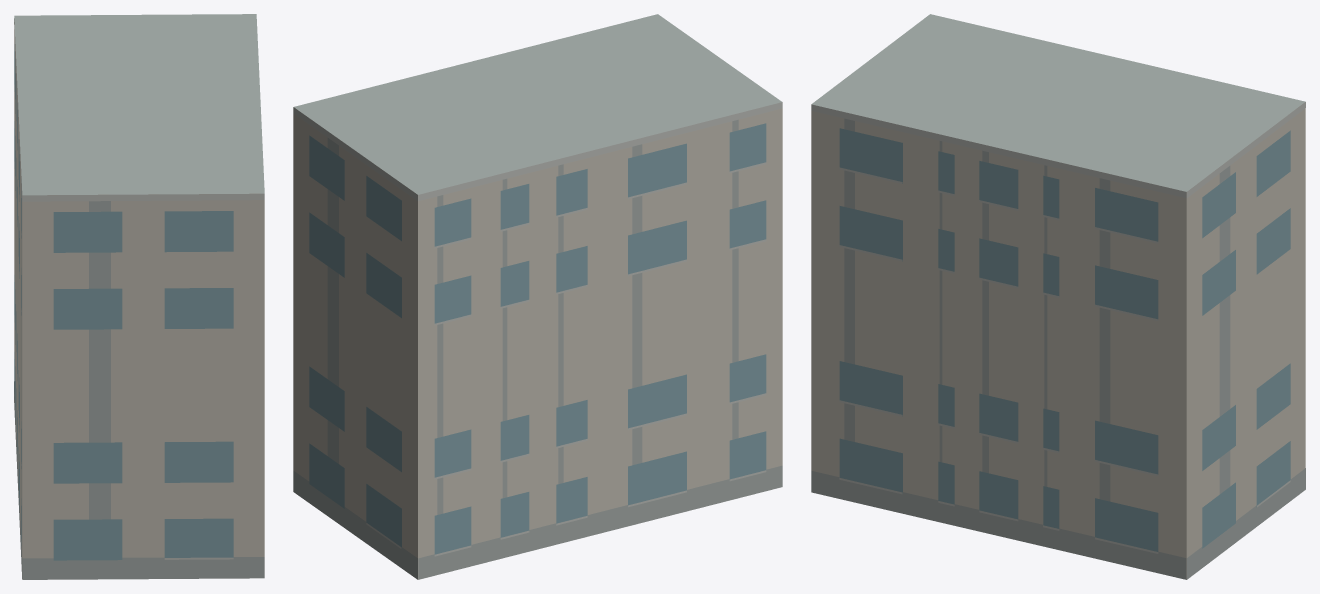
Rendered from survey-upis-32953248.glb.
The picture shows the model from 3 angles, left to right: view 1: azimuth 30°, elevation 25°; view 2: azimuth 150°, elevation 25°; view 3: azimuth 270°, elevation 25°; orthographic projection.
Visible parts, largest first — view 1: survey-upis-32953248.tmp; view 2: survey-upis-32953248.tmp; view 3: survey-upis-32953248.tmp.
Part boxes in pixels (x1,y1,x2,y2): survey-upis-32953248.tmp: (14, 14, 264, 579); survey-upis-32953248.tmp: (293, 14, 782, 579); survey-upis-32953248.tmp: (811, 14, 1305, 579).
Size of the model in its own units: 14.47 by 14.7 by 16.99.
